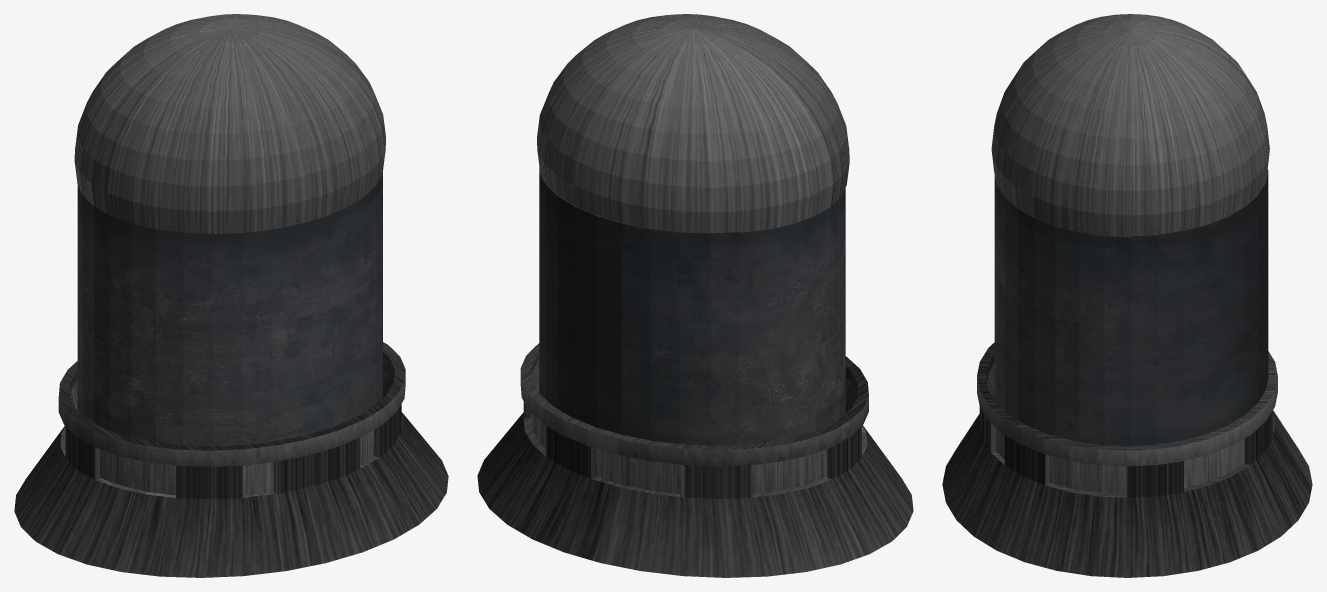
The model's file is Target_Dark.fbx.
3 renders of one model, left to right at view 1: azimuth 30°, elevation 25°; view 2: azimuth 150°, elevation 25°; view 3: azimuth 270°, elevation 25°, orthographic. The views are drawn at different scales.
Visible parts, largest first — view 1: Cylinder.003, Sphere, Cylinder, Cylinder.002, Cylinder.001; view 2: Cylinder.003, Sphere, Cylinder, Cylinder.002, Cylinder.001; view 3: Cylinder.003, Sphere, Cylinder, Cylinder.002, Cylinder.001.
Boxes of the visible parts, <box> form: Cylinder.003: <box>77,172,382,446</box>; Sphere: <box>74,14,385,233</box>; Cylinder: <box>14,404,448,577</box>; Cylinder.002: <box>58,342,405,466</box>; Cylinder.001: <box>70,357,394,495</box>; Cylinder.003: <box>539,167,845,445</box>; Sphere: <box>537,14,849,233</box>; Cylinder: <box>477,401,913,577</box>; Cylinder.002: <box>520,343,868,466</box>; Cylinder.001: <box>532,360,857,494</box>; Cylinder.003: <box>994,169,1268,446</box>; Sphere: <box>991,14,1269,237</box>; Cylinder: <box>942,407,1312,577</box>; Cylinder.002: <box>977,342,1277,466</box>; Cylinder.001: <box>987,364,1244,494</box>.
Bounding box in the file's own units: 73.52 × 83.22 × 61.54.
2 materials, 2 textured.
